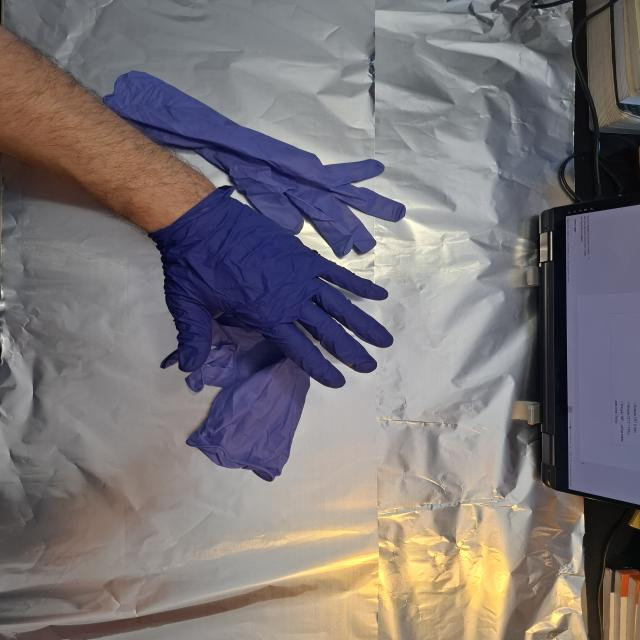glove_on: (152, 185, 397, 390)
